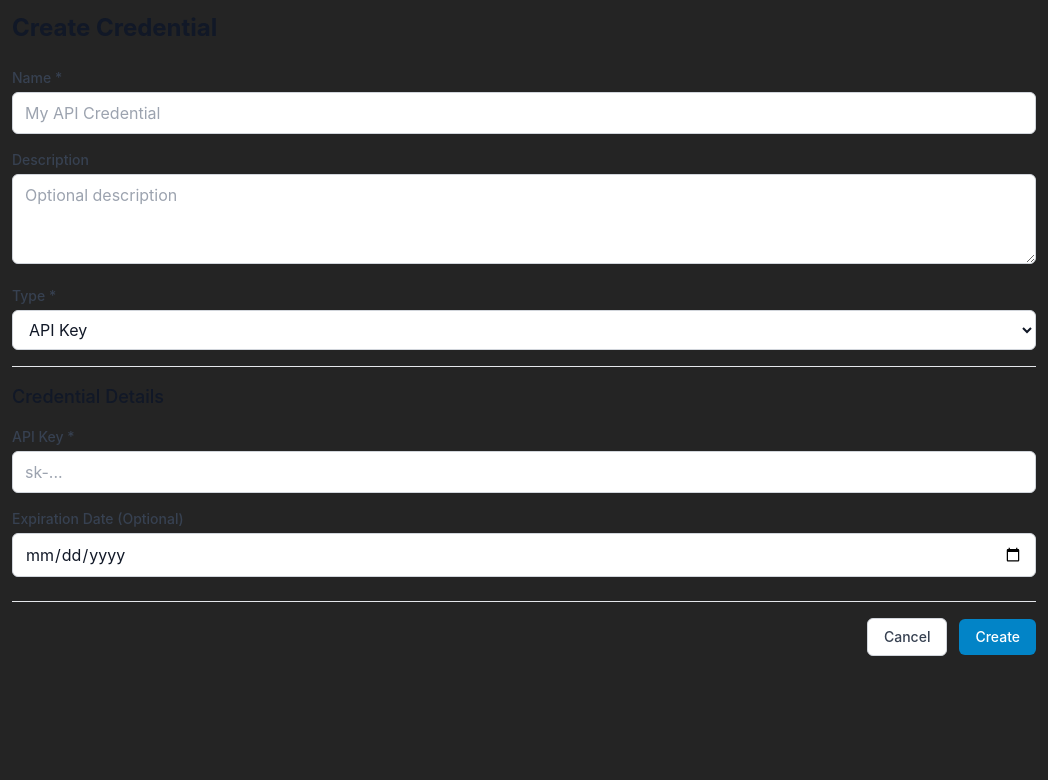
it: CredentialForm › Create mode › validates required credential value fields
Type "Test" into the field labelled "Name *" at (524, 113), box [12,92,1036,134]
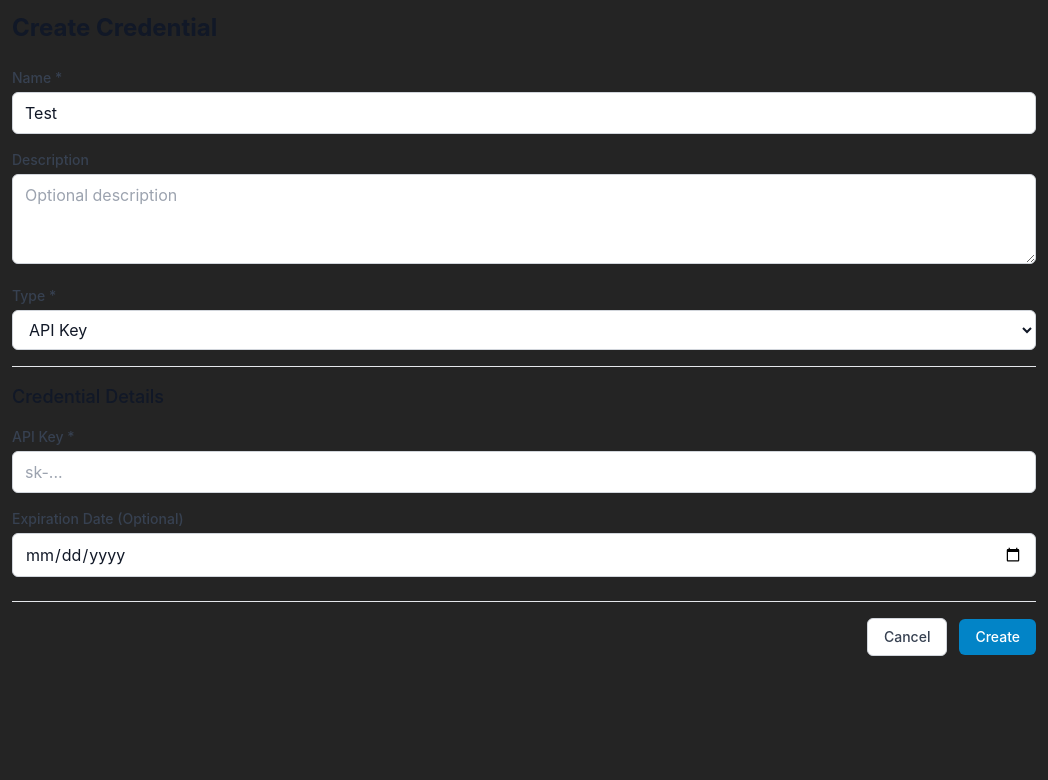
Select "API Key" in the dropdown labelled "Type *" at (524, 330), box [12,310,1036,350]
Click the button "Create" at (998, 637), box [959,619,1036,655]
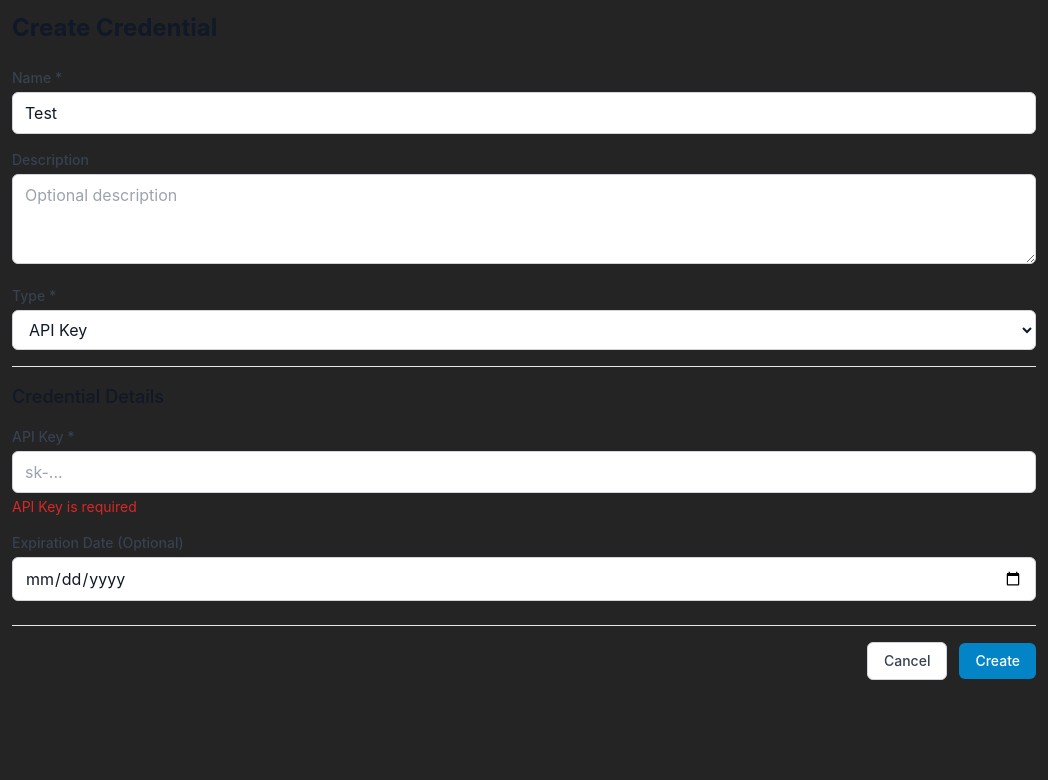
Result: the text "API Key is required" is shown at [12,498,137,515]
